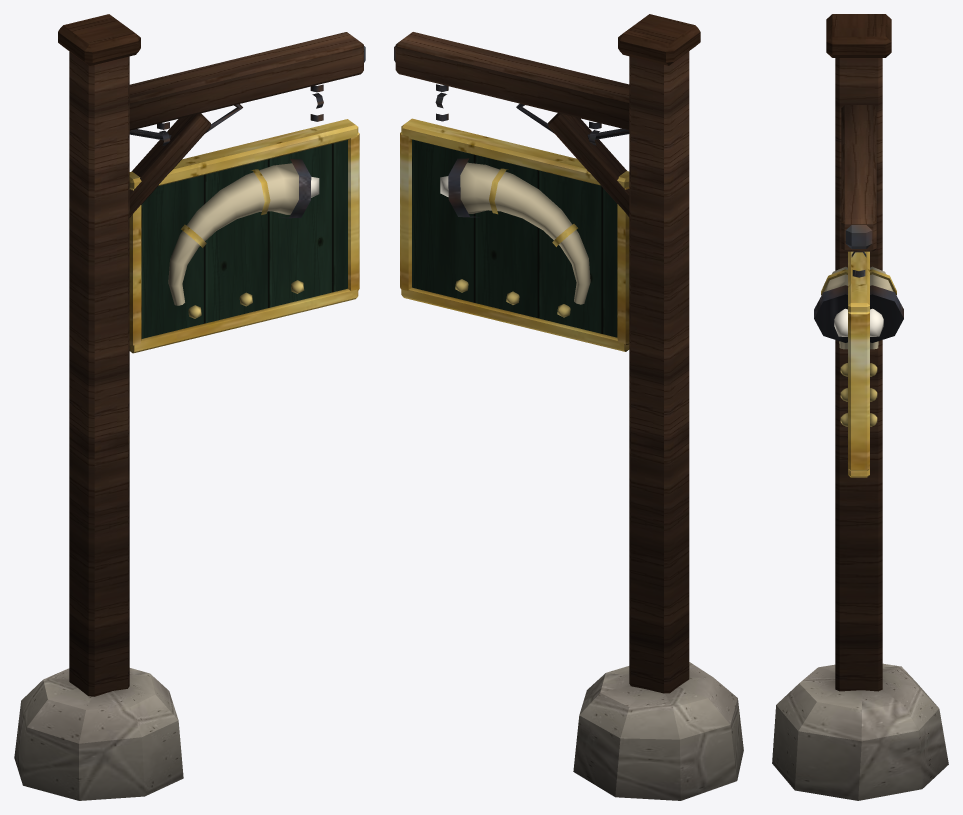
File: skaldhaven_tavern_sign.glb
3 views of the same model, side by side, from view 1: azimuth 30°, elevation 25°; view 2: azimuth 150°, elevation 25°; view 3: azimuth 270°, elevation 25° (orthographic).
Parts seen in each view (by area): view 1: skaldhaven_tavern_sign; view 2: skaldhaven_tavern_sign; view 3: skaldhaven_tavern_sign.
Boxes of the visible parts, box(x1,y1,x2,y2) form: skaldhaven_tavern_sign: box(14, 14, 365, 800); skaldhaven_tavern_sign: box(394, 14, 743, 800); skaldhaven_tavern_sign: box(772, 14, 948, 800).
Bounding box in the file's own units: 1.33 × 2.76 × 0.5968.
Materials: 6 (5 with a texture image).
